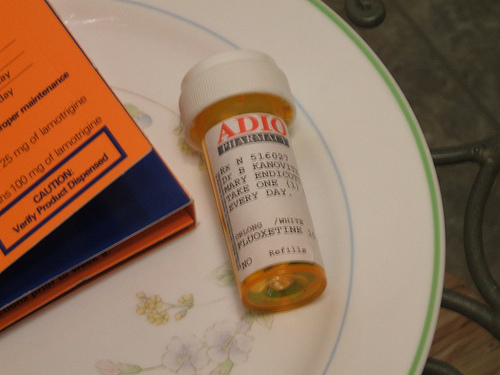pill bottle: (178, 47, 330, 314)
